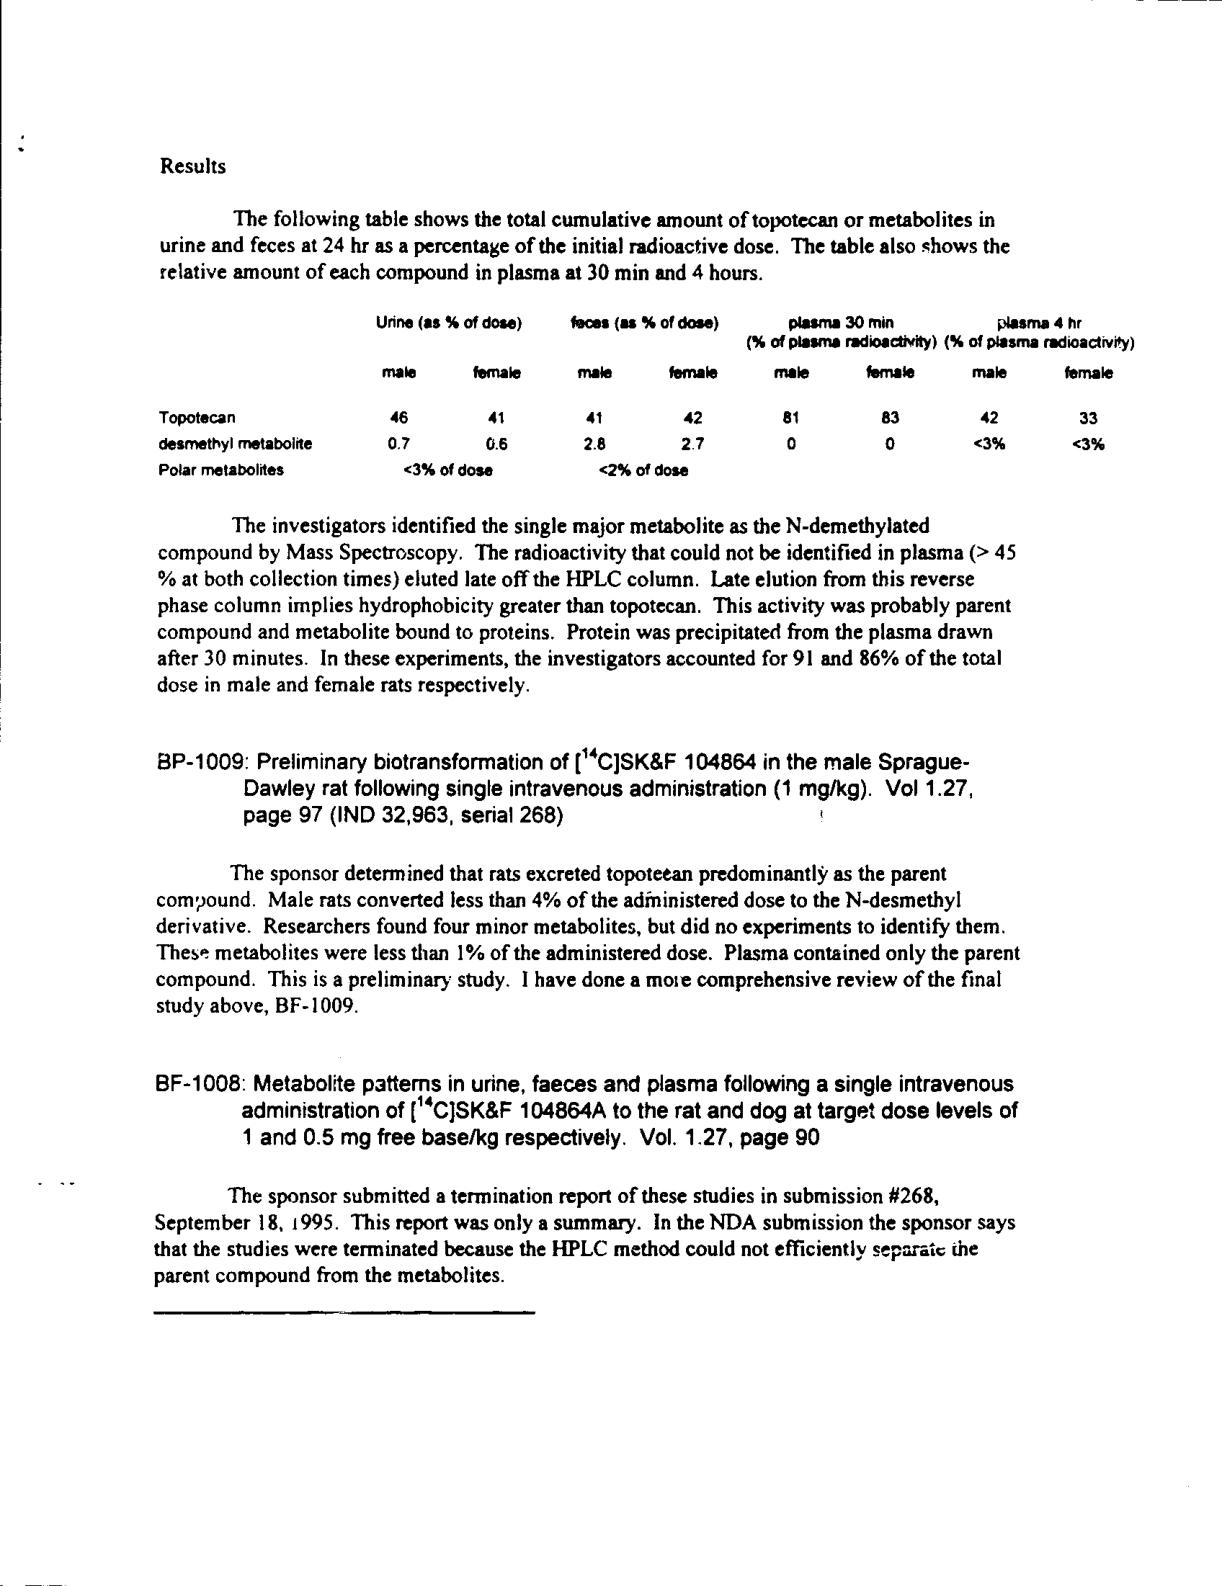nolines: (153, 311, 1135, 482)
